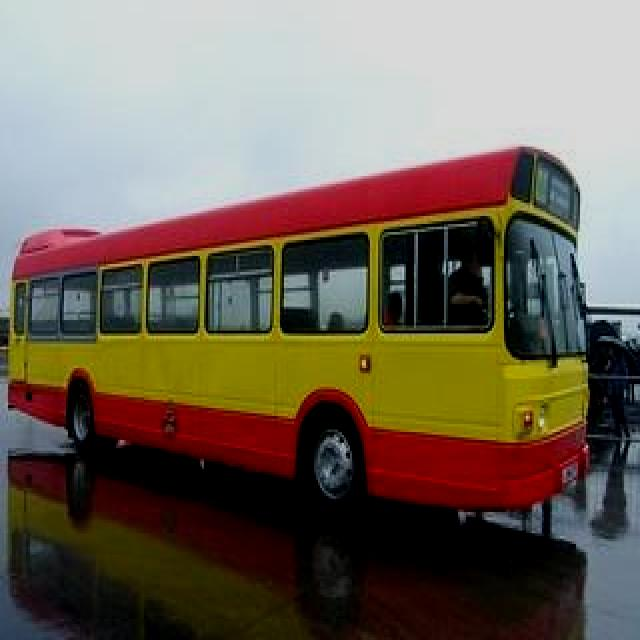Bus: (0, 140, 602, 526)
